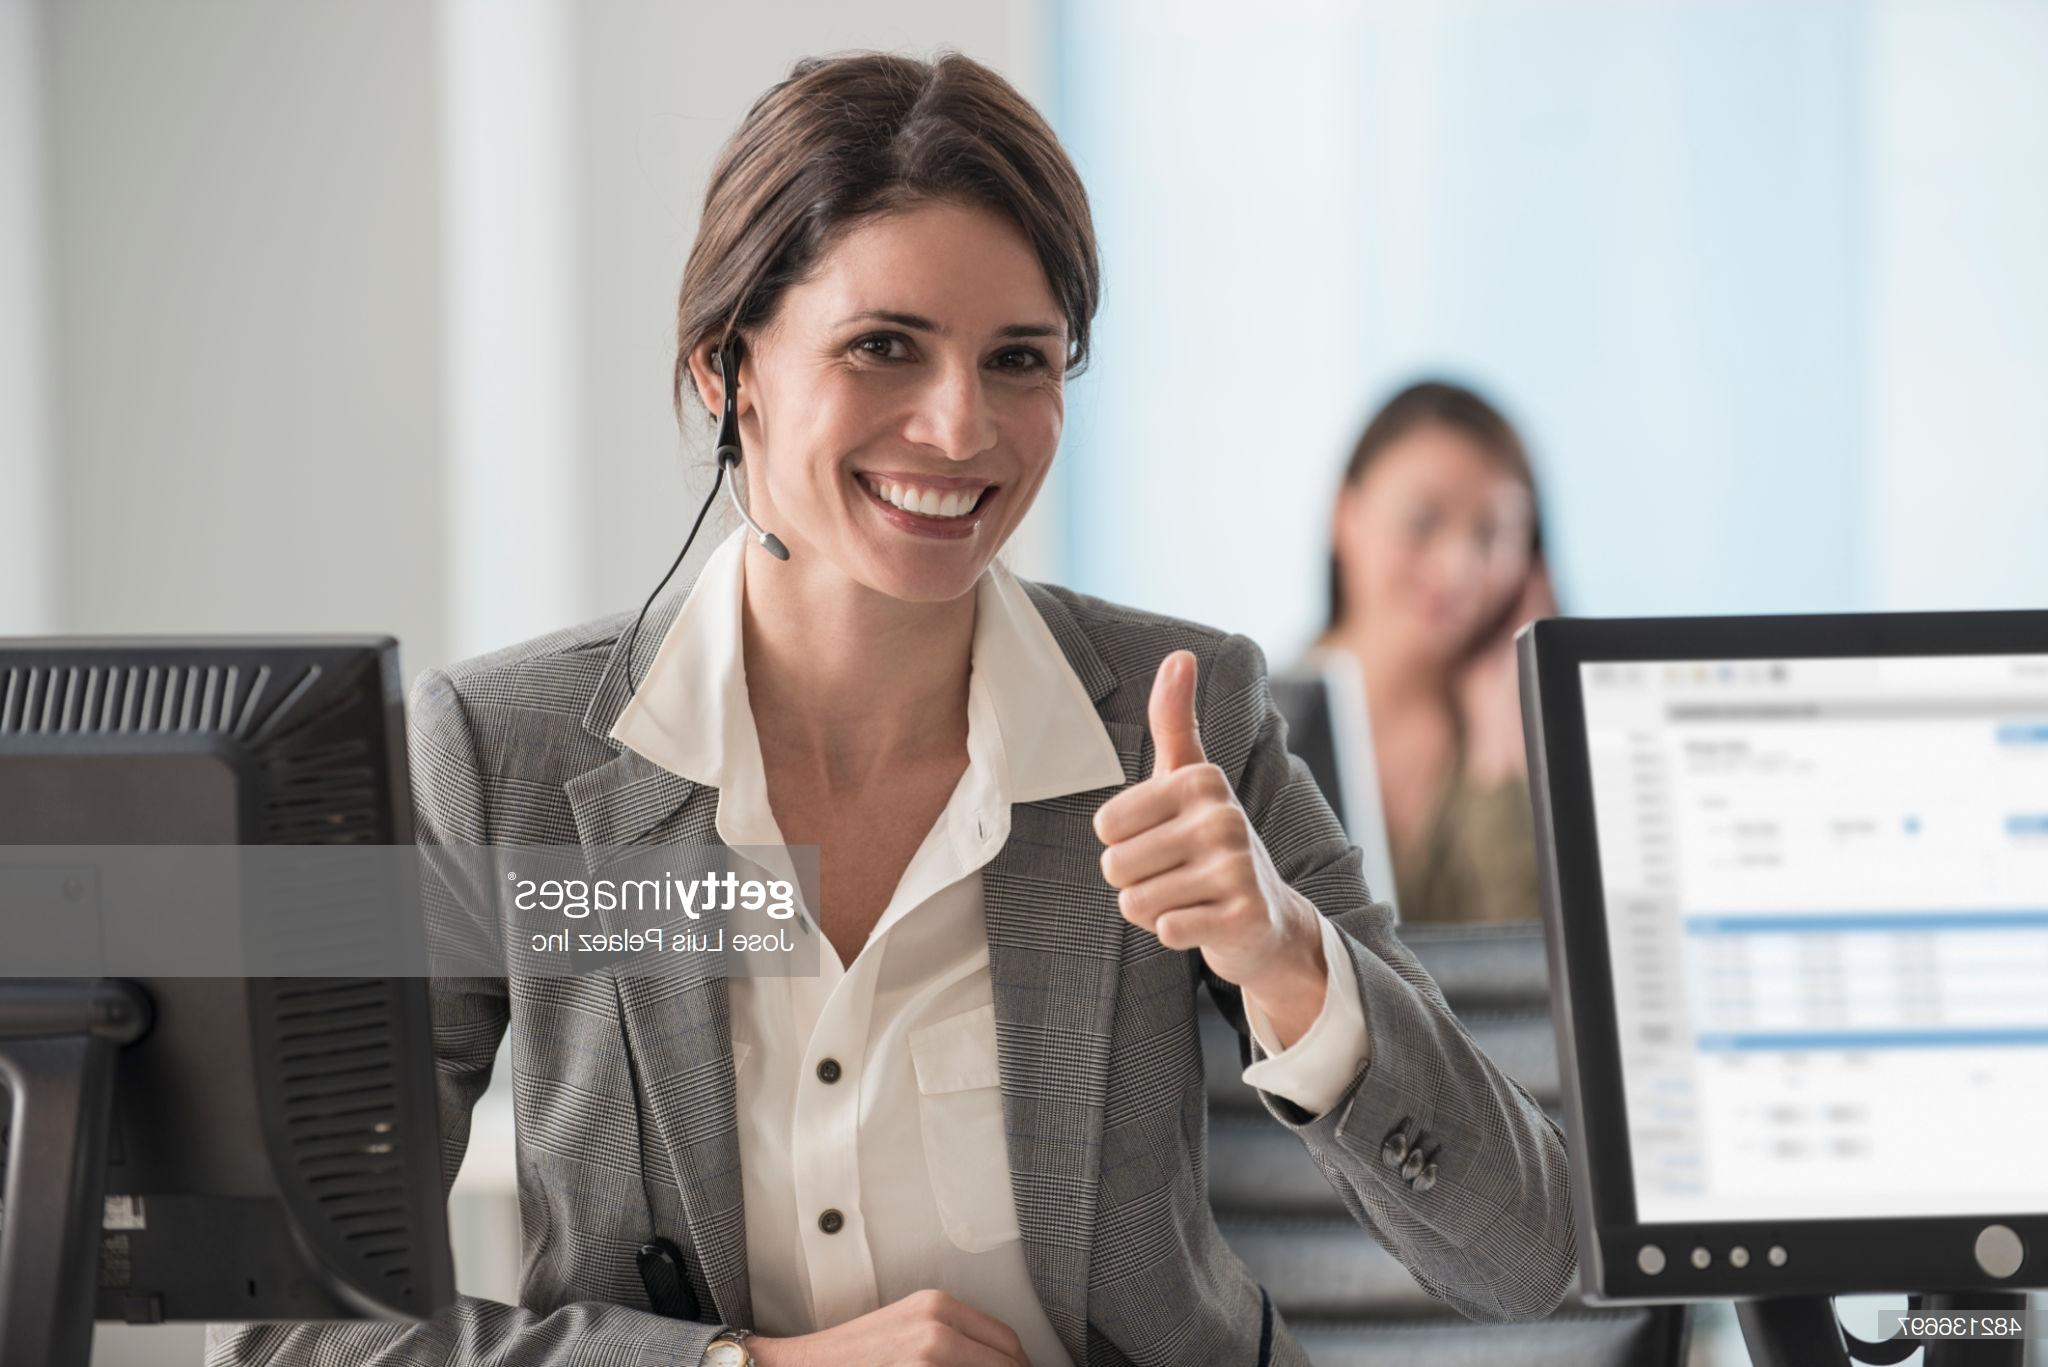thumbsup: (1090, 647, 1275, 954)
